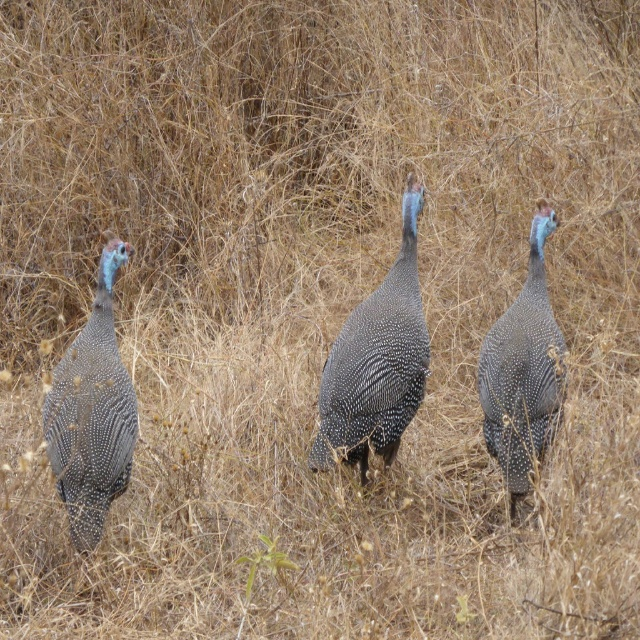Turkey: (307, 172, 432, 500), (477, 197, 571, 528), (43, 231, 138, 552)
